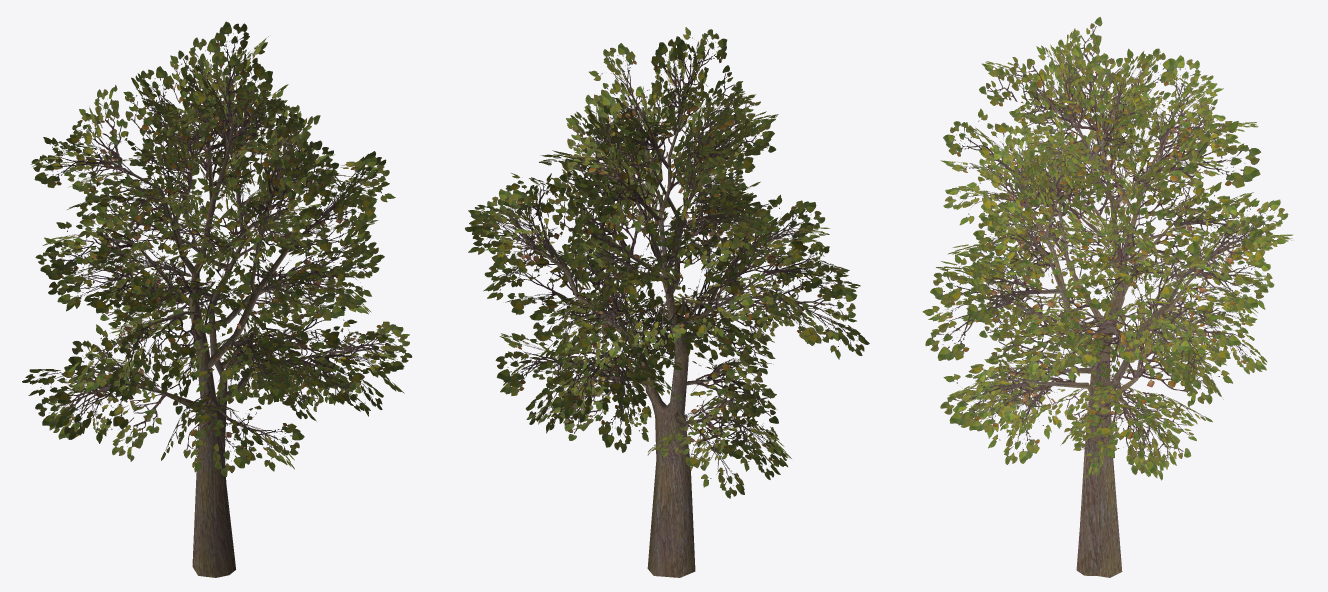
Rendered from tree.gltf.
The picture shows the model from 3 angles, left to right: view 1: azimuth 30°, elevation 25°; view 2: azimuth 150°, elevation 25°; view 3: azimuth 270°, elevation 25°; orthographic projection. The views are drawn at different scales.
Visible parts, largest first — view 1: Mesh_0349.rip; view 2: Mesh_0349.rip; view 3: Mesh_0349.rip.
Boxes of the visible parts, bbox=[...] form: Mesh_0349.rip: bbox=[22, 21, 412, 577]; Mesh_0349.rip: bbox=[465, 27, 869, 577]; Mesh_0349.rip: bbox=[922, 17, 1293, 577].
Bounding box in the file's own units: 11.75 × 16.4 × 11.19.
1 material, 1 textured.
